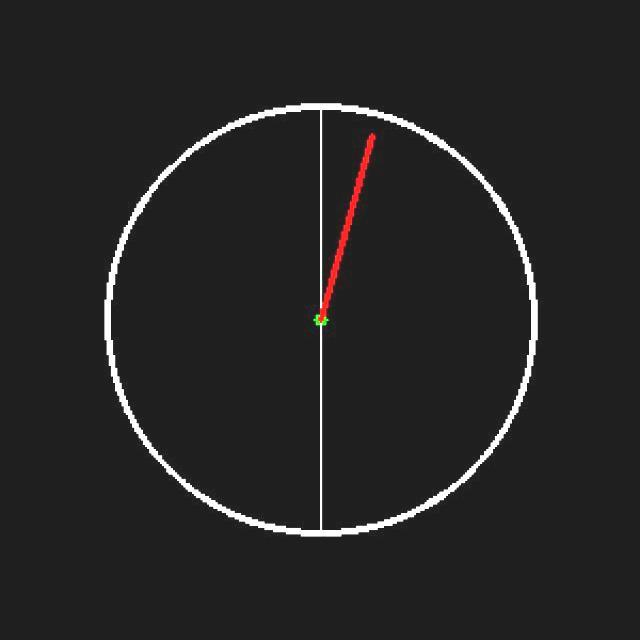Needle_Tip: (336, 118, 405, 174)
Needle_base: (298, 246, 346, 392)
